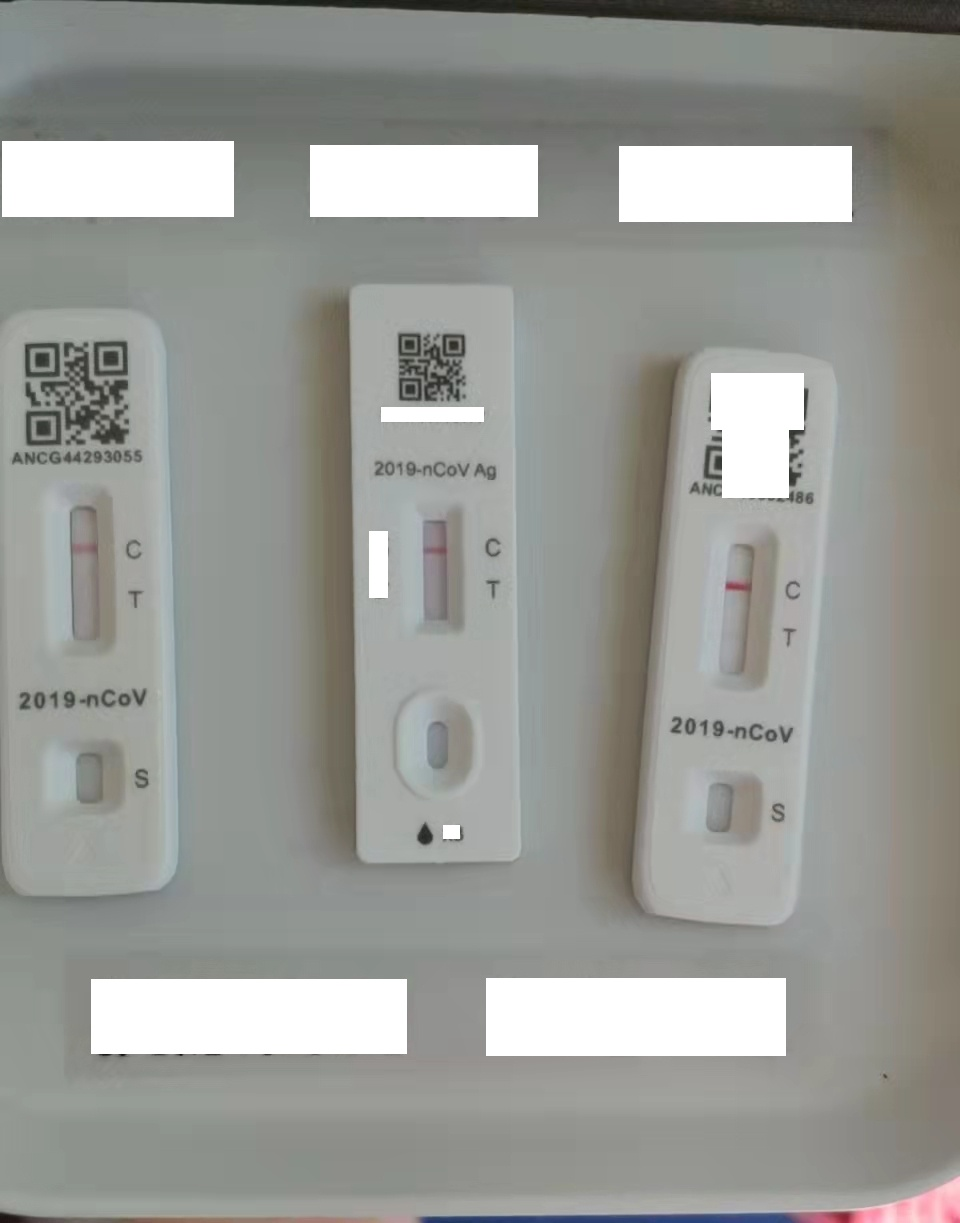negative: (50, 486, 117, 658), (707, 532, 773, 692), (413, 503, 462, 632)
